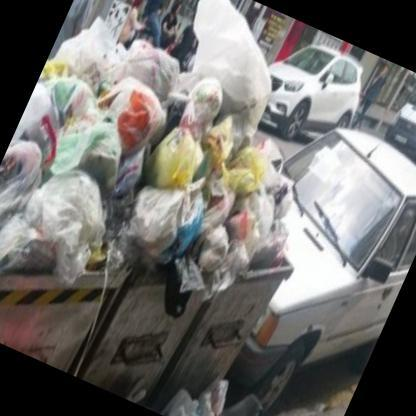Garbage: (0, 14, 211, 277), (130, 0, 295, 197), (130, 114, 308, 279), (167, 379, 280, 415)
